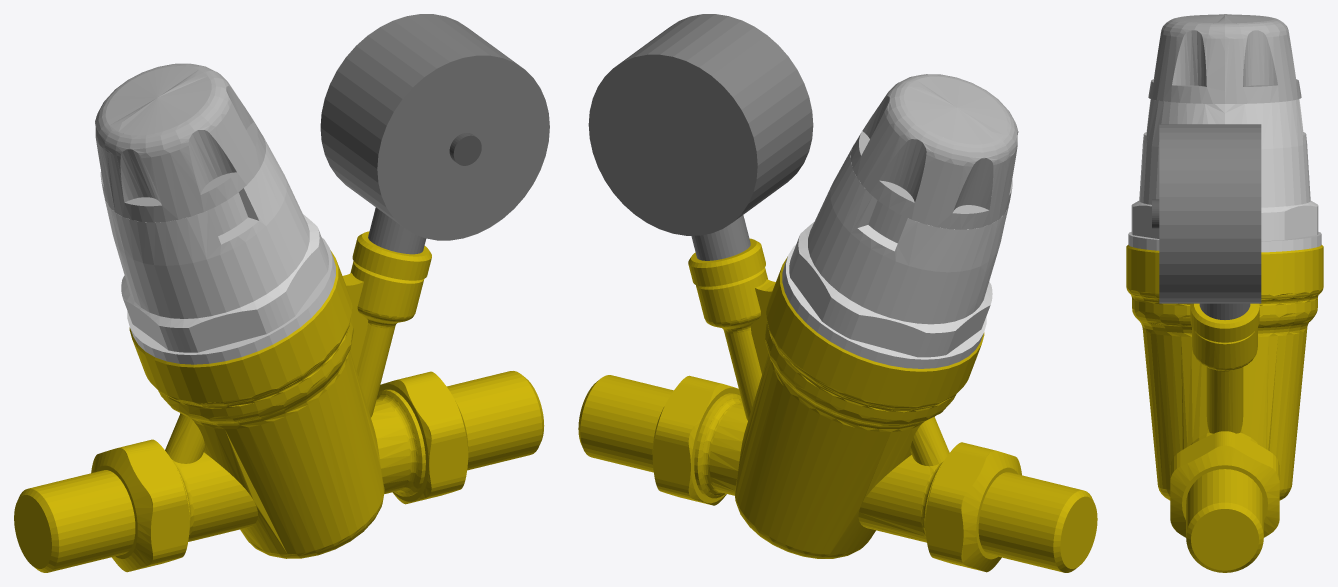
File: Valve Test.fbx
3 views of the same model, side by side, from view 1: azimuth 30°, elevation 25°; view 2: azimuth 150°, elevation 25°; view 3: azimuth 270°, elevation 25° (orthographic). The views are drawn at different scales.
Visible parts, largest first — view 1: Group_1, Group_8, Group_3, Group_5, ID90, Group_4, ID98, ID106, ID114, Group_2, ID161, Group_6 (+3 smaller); view 2: Group_1, Group_8, Group_3, Group_5, ID90, Group_4, ID98, ID106, ID114, Group_2, ID161, Group_6 (+2 smaller); view 3: Group_1, Group_8, Group_3, ID106, Group_5, ID114, Group_4, Group_2, Group_6, ID161, Group_7.
Boxes of the visible parts, x1,y1,x2,y2 form: Group_1: (129, 250, 418, 558); Group_8: (320, 14, 549, 240); Group_3: (95, 63, 265, 222); Group_5: (115, 175, 328, 352); ID90: (14, 470, 135, 572); Group_4: (104, 135, 286, 265); ID98: (91, 439, 189, 572); ID106: (447, 371, 544, 470); ID114: (378, 371, 468, 504); Group_2: (350, 261, 424, 417); ID161: (127, 238, 335, 364); Group_6: (352, 231, 431, 280); Group_1: (701, 257, 984, 558); Group_8: (588, 14, 813, 235); Group_3: (851, 74, 1018, 229); Group_5: (789, 184, 998, 357); ID90: (978, 472, 1097, 572); Group_4: (830, 147, 1009, 272); ID98: (925, 442, 1021, 572); ID106: (578, 375, 673, 472); ID114: (652, 375, 740, 505); Group_2: (696, 267, 767, 420); ID161: (782, 245, 986, 368); Group_6: (688, 238, 765, 286); Group_1: (1126, 245, 1323, 500); Group_8: (1159, 124, 1261, 303); Group_3: (1148, 14, 1301, 103); ID106: (1186, 469, 1263, 572); Group_5: (1131, 143, 1318, 241); ID114: (1170, 431, 1279, 537); Group_4: (1143, 99, 1306, 149); Group_2: (1192, 327, 1257, 433); Group_6: (1190, 303, 1259, 342); ID161: (1128, 232, 1321, 252); Group_7: (1199, 303, 1250, 319).
Bounding box in the file's own units: 14 × 13.43 × 5.4.
